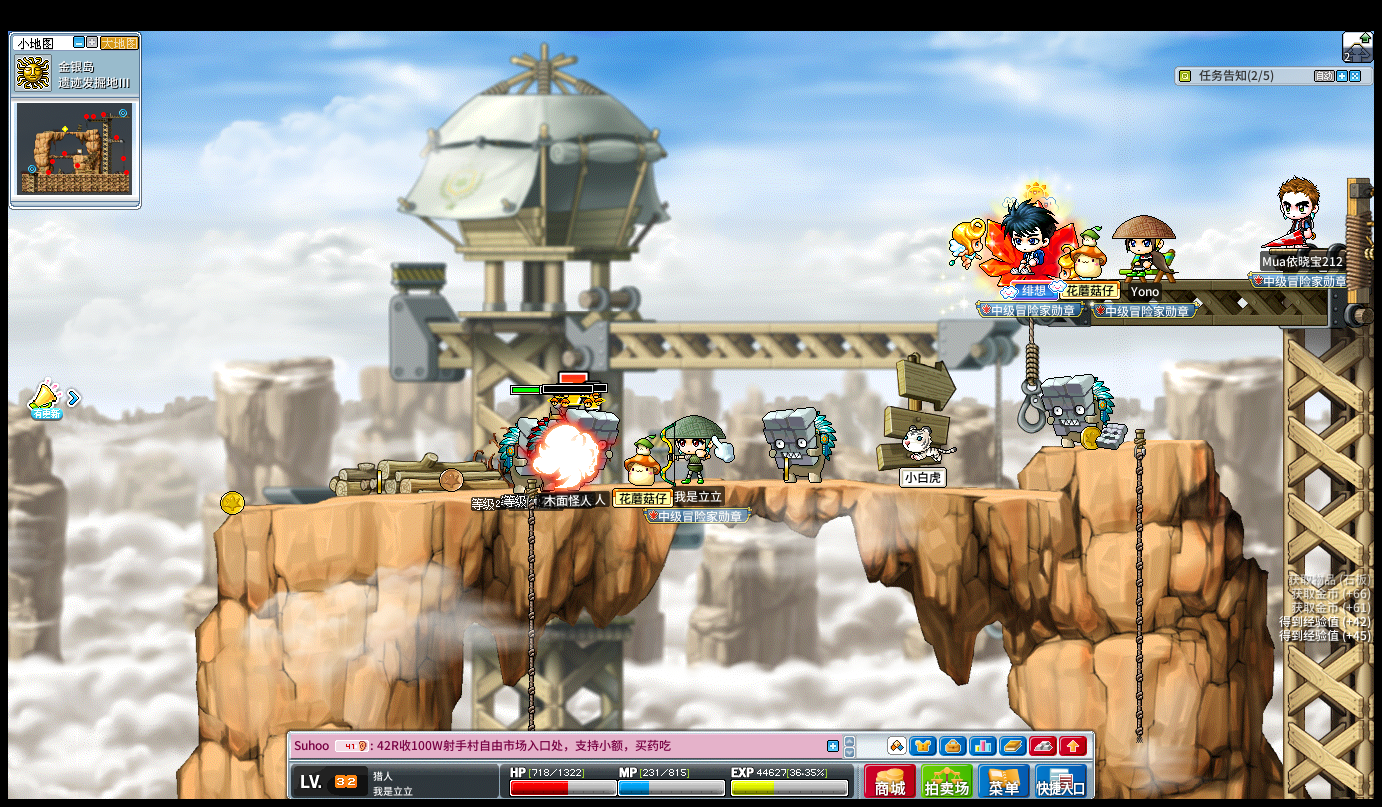floor: (199, 477, 1162, 495), (1038, 434, 1209, 451)
monster: (761, 408, 837, 484), (1040, 372, 1114, 450), (498, 415, 538, 487)
rope: (1130, 426, 1147, 757), (523, 480, 536, 682), (1027, 318, 1038, 392)
